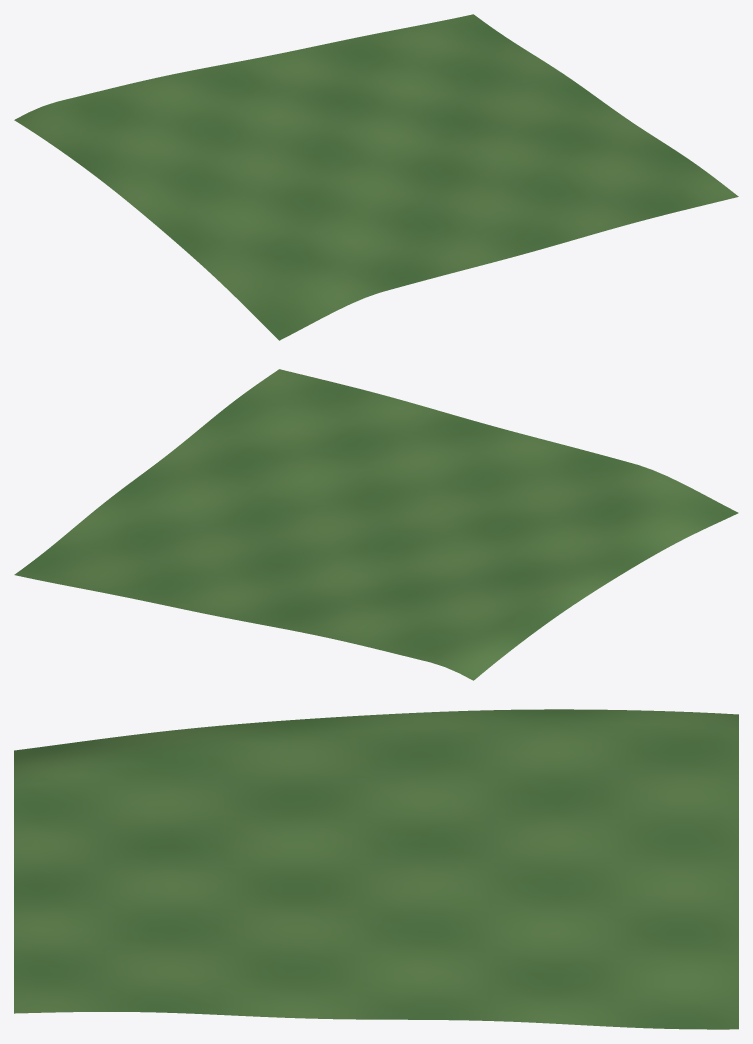
The model's file is chunk_4_4.glb.
The picture shows the model from 3 angles, top to bottom: view 1: azimuth 30°, elevation 25°; view 2: azimuth 150°, elevation 25°; view 3: azimuth 270°, elevation 25°; orthographic projection. The views are drawn at different scales.
Bounding box in the file's own units: 512 × 36.75 × 512.
